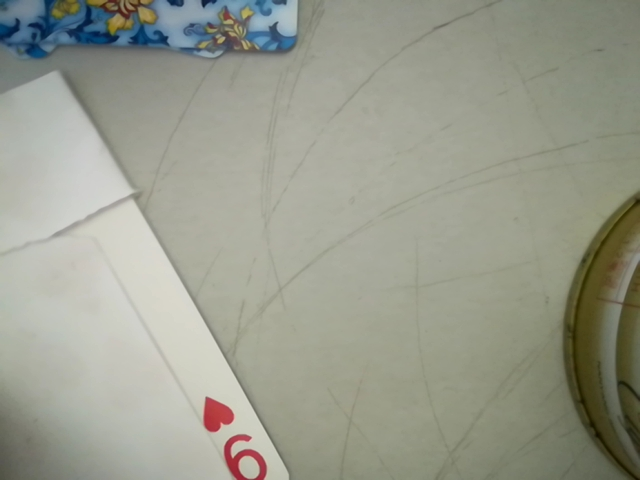hx 9: (197, 391, 275, 479)
